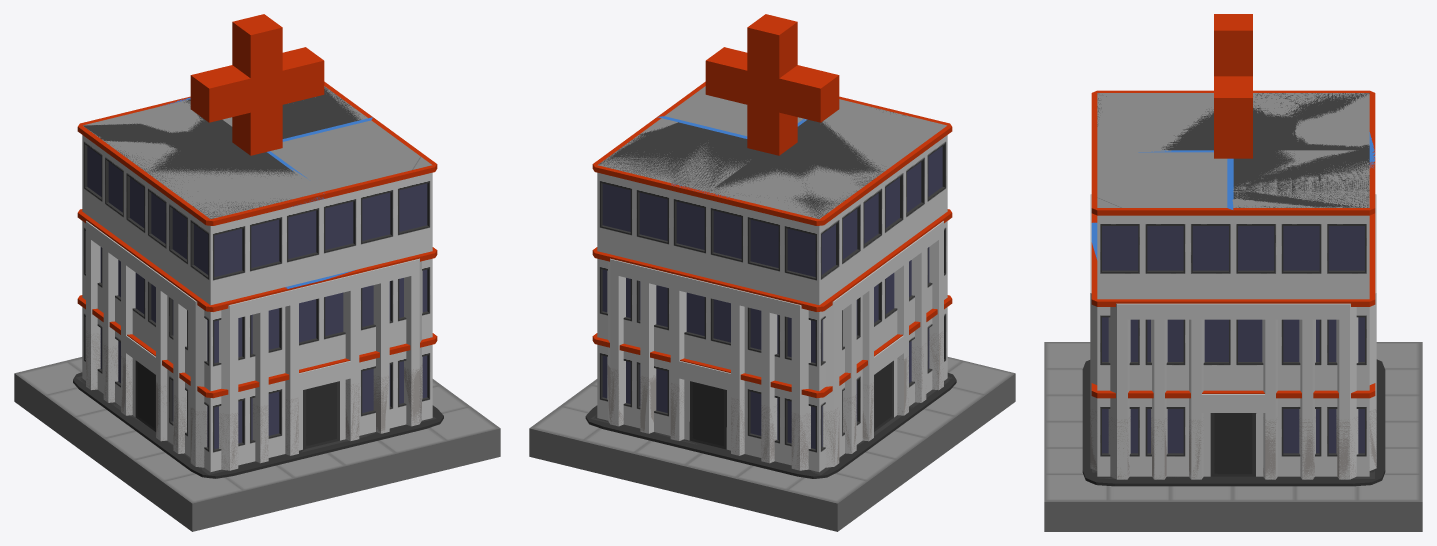
The model's file is Buildings.fbx.
3 views of the same model, side by side, from view 1: azimuth 30°, elevation 25°; view 2: azimuth 150°, elevation 25°; view 3: azimuth 270°, elevation 25° (orthographic). The views are drawn at different scales.
Parts seen in each view (by area): view 1: Hospital, Bank, Sidewalk, Lab, Jewelry Store, NormalExt; view 2: Hospital, Bank, Sidewalk, Lab, Jewelry Store; view 3: Hospital, Sidewalk, Bank, Lab, Jewelry Store, NormalExt.
Boxes of the visible parts, left/top/right/bottom form: Hospital: left=76, top=14, right=437, bottom=474; Bank: left=73, top=221, right=443, bottom=478; Sidewalk: left=14, top=357, right=500, bottom=531; Lab: left=83, top=87, right=372, bottom=288; Jewelry Store: left=86, top=330, right=422, bottom=469; NormalExt: left=82, top=365, right=431, bottom=472; Hospital: left=591, top=14, right=952, bottom=474; Bank: left=585, top=221, right=956, bottom=478; Sidewalk: left=529, top=357, right=1015, bottom=531; Lab: left=598, top=107, right=909, bottom=218; Jewelry Store: left=607, top=331, right=943, bottom=470; Hospital: left=1091, top=14, right=1375, bottom=478; Sidewalk: left=1044, top=342, right=1422, bottom=531; Bank: left=1082, top=194, right=1385, bottom=486; Lab: left=1091, top=93, right=1375, bottom=259; Jewelry Store: left=1090, top=409, right=1376, bottom=479; NormalExt: left=1097, top=460, right=1369, bottom=476.
Bounding box in the file's own units: 125 × 157 × 125.
Materials: 1 (1 with a texture image).
